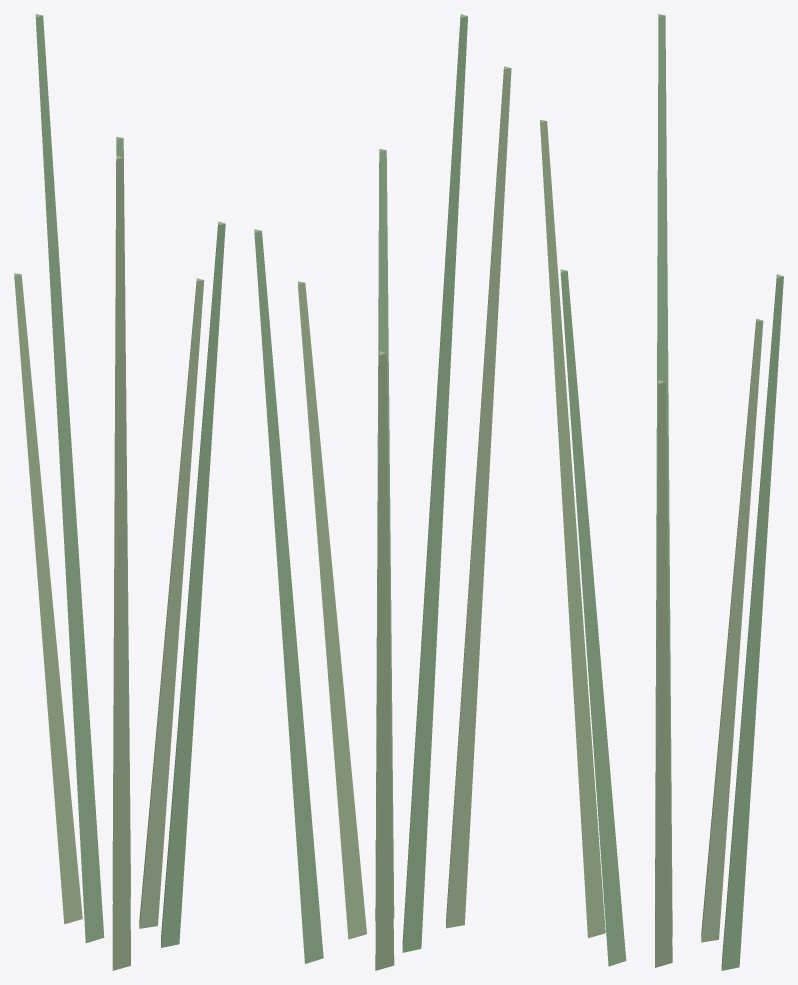
Rendered from reed_v13.glb.
3 renders of one model, left to right at view 1: azimuth 30°, elevation 25°; view 2: azimuth 150°, elevation 25°; view 3: azimuth 270°, elevation 25°, orthographic. The views are drawn at different scales.
Parts seen in each view (by area): view 1: lod0; view 2: lod0; view 3: lod0.
Boxes of the visible parts, x1,y1,x2,y2 form: lod0: [14, 14, 225, 970]; lod0: [254, 14, 511, 970]; lod0: [540, 14, 783, 970].
Size of what is drawn, in the model's own units: 0.3138 by 1.67 by 0.4104.
